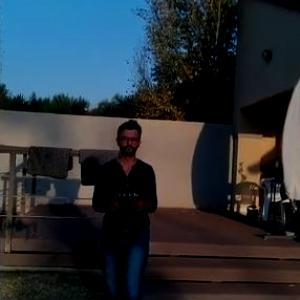follow: (86, 114, 164, 299)
